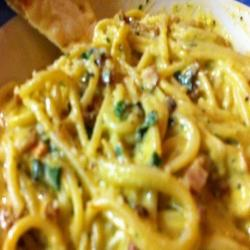carbonara: (19, 22, 234, 240)
